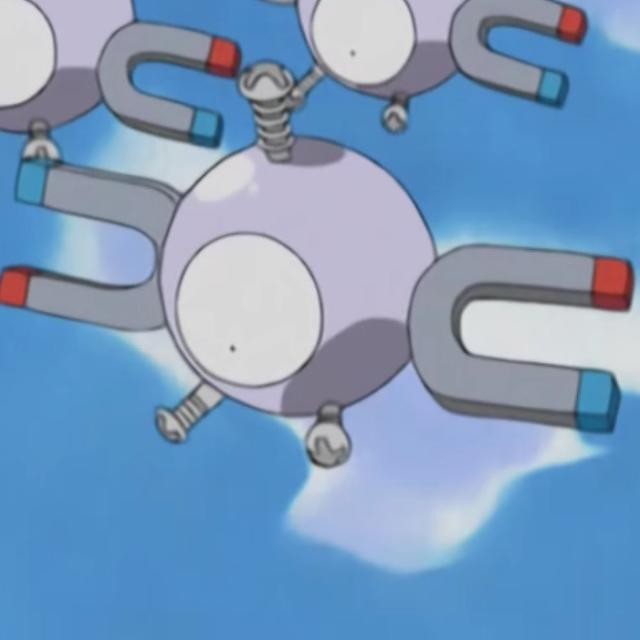Magnemite: (12, 119, 629, 459)
